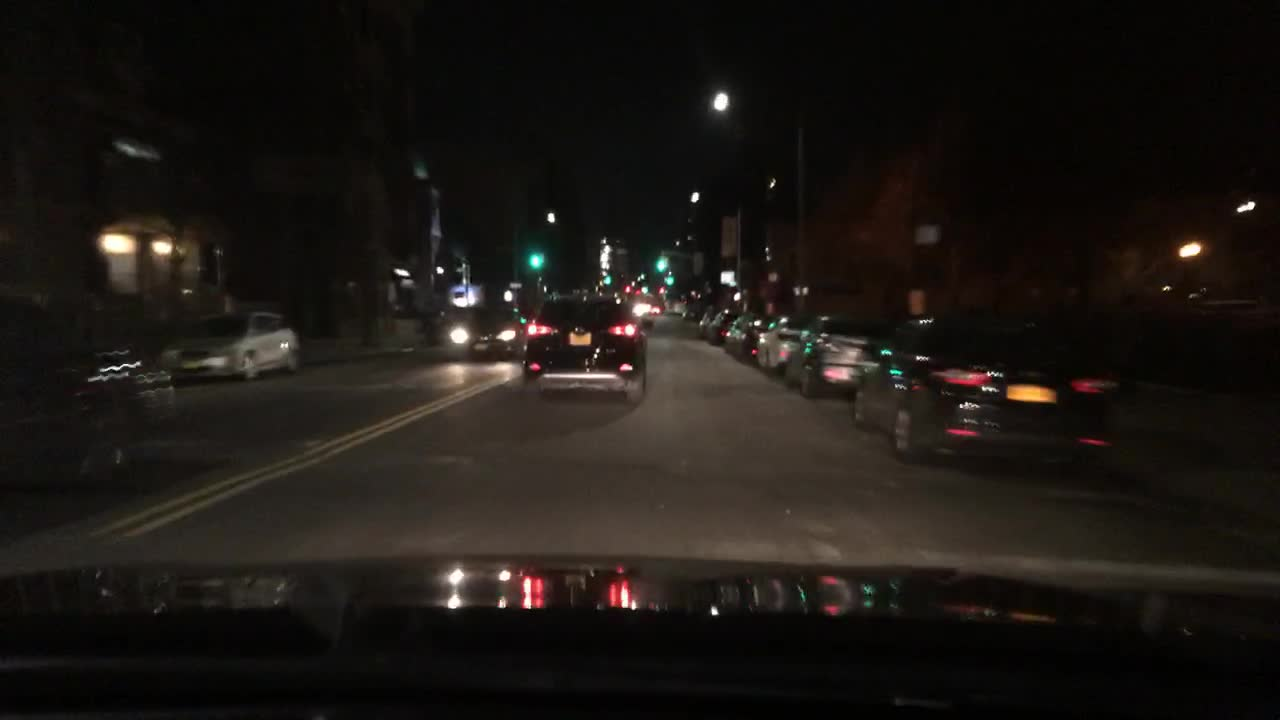car: (847, 305, 1121, 477), (0, 288, 177, 499), (522, 296, 646, 408), (153, 312, 301, 380), (787, 308, 889, 397), (438, 306, 520, 361), (754, 312, 815, 375), (723, 310, 770, 361), (709, 308, 733, 341), (693, 308, 716, 340), (682, 301, 703, 316), (632, 298, 647, 317)
traffic light: (527, 248, 541, 271), (654, 250, 665, 278), (665, 269, 674, 290), (600, 269, 609, 290)
traffic sign: (910, 229, 938, 247), (906, 290, 925, 313), (411, 156, 429, 180), (716, 269, 735, 283), (509, 280, 523, 289)
